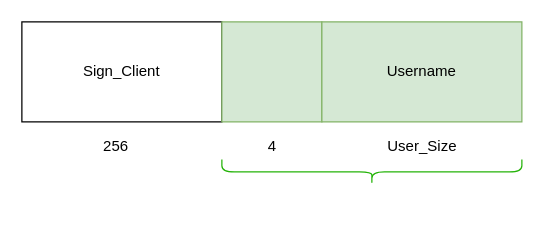
The diagram is 544 pixels wide and 244 high, and some of its shapes have lost their labels. The centre of each missing label's shape, as x and y in pixels:
"Authenticated" belongs at [371,171].
"Nonce_Client" belongs at [271,71].
